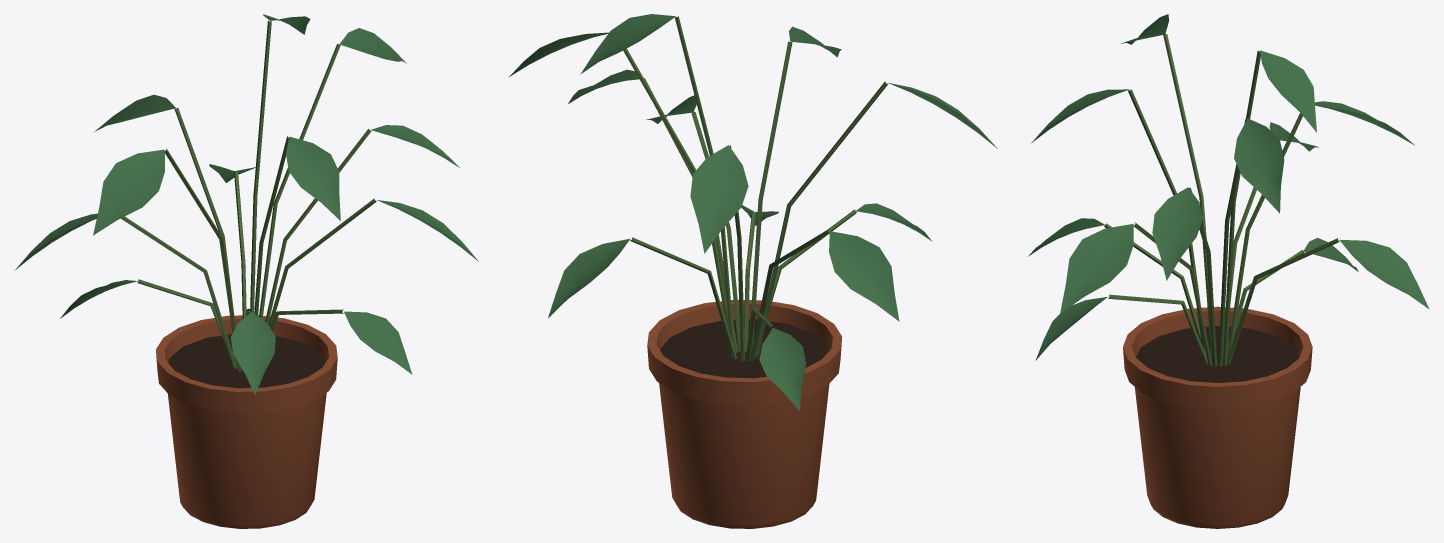
The model's file is ink-plant.glb.
3 renders of one model, left to right at view 1: azimuth 30°, elevation 25°; view 2: azimuth 150°, elevation 25°; view 3: azimuth 270°, elevation 25°, orthographic. The views are drawn at different scales.
Visible parts, largest first — view 1: plant; view 2: plant; view 3: plant.
Boxes of the visible parts, x1,y1,x2,y2 form: plant: (14, 14, 478, 528); plant: (508, 14, 997, 528); plant: (1028, 14, 1429, 528).
Bounding box in the file's own units: 0.8186 × 0.9235 × 0.7131.
